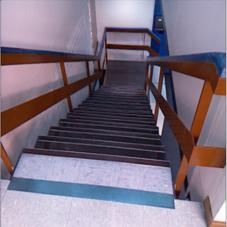Animal: (19, 108, 167, 187)
